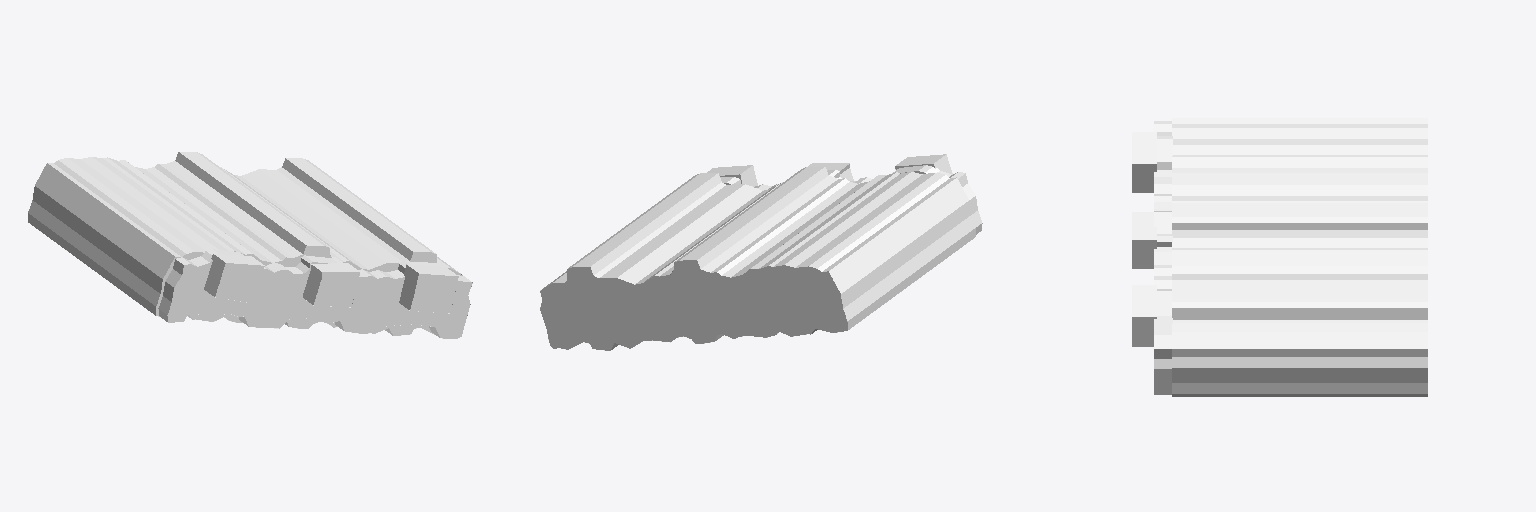
File: 01b_rerender.obj
3 renders of one model, left to right at view 1: azimuth 30°, elevation 25°; view 2: azimuth 150°, elevation 25°; view 3: azimuth 270°, elevation 25°, orthographic.
Visible parts, largest first — view 1: geometry_299, geometry_14, geometry_64, geometry_153, geometry_12, geometry_10, geometry_72, geometry_48, geometry_66, geometry_339, geometry_70, geometry_46 (+17 smaller); view 2: geometry_150, geometry_14, geometry_64, geometry_12, geometry_10, geometry_72, geometry_66, geometry_48, geometry_70, geometry_46, geometry_44, geometry_24 (+13 smaller); view 3: geometry_82, geometry_60, geometry_88, geometry_48, geometry_72, geometry_34, geometry_76, geometry_36, geometry_86, geometry_90, geometry_30, geometry_22 (+24 smaller).
Part boxes in pixels (bbox=[...]): geometry_299: bbox=[168, 261, 472, 338]; geometry_14: bbox=[35, 163, 174, 278]; geometry_64: bbox=[242, 169, 385, 269]; geometry_153: bbox=[156, 246, 462, 335]; geometry_12: bbox=[33, 186, 162, 293]; geometry_10: bbox=[28, 200, 159, 305]; geometry_72: bbox=[286, 158, 429, 251]; geometry_48: bbox=[180, 152, 323, 245]; geometry_66: bbox=[259, 169, 401, 262]; geometry_339: bbox=[410, 274, 458, 312]; geometry_70: bbox=[282, 158, 412, 260]; geometry_46: bbox=[175, 152, 305, 253]; geometry_150: bbox=[540, 260, 847, 350]; geometry_14: bbox=[829, 178, 968, 293]; geometry_64: bbox=[618, 184, 761, 283]; geometry_12: bbox=[841, 201, 970, 308]; geometry_10: bbox=[844, 215, 975, 320]; geometry_72: bbox=[573, 173, 717, 266]; geometry_66: bbox=[600, 184, 744, 277]; geometry_48: bbox=[681, 166, 824, 259]; geometry_70: bbox=[591, 173, 721, 274]; geometry_46: bbox=[697, 167, 828, 268]; geometry_44: bbox=[702, 176, 837, 272]; geometry_24: bbox=[785, 172, 922, 267]; geometry_82: bbox=[1172, 332, 1427, 348]; geometry_60: bbox=[1172, 250, 1427, 265]; geometry_88: bbox=[1172, 368, 1427, 382]; geometry_48: bbox=[1172, 203, 1427, 216]; geometry_72: bbox=[1172, 288, 1427, 301]; geometry_34: bbox=[1172, 173, 1427, 184]; geometry_76: bbox=[1172, 308, 1427, 319]; geometry_36: bbox=[1172, 185, 1427, 195]; geometry_86: bbox=[1172, 357, 1427, 367]; geometry_90: bbox=[1172, 383, 1427, 393]; geometry_30: bbox=[1172, 157, 1427, 167]; geometry_22: bbox=[1172, 128, 1427, 138].
Bounding box in the file's own units: 69.06 × 31.28 × 57.7.